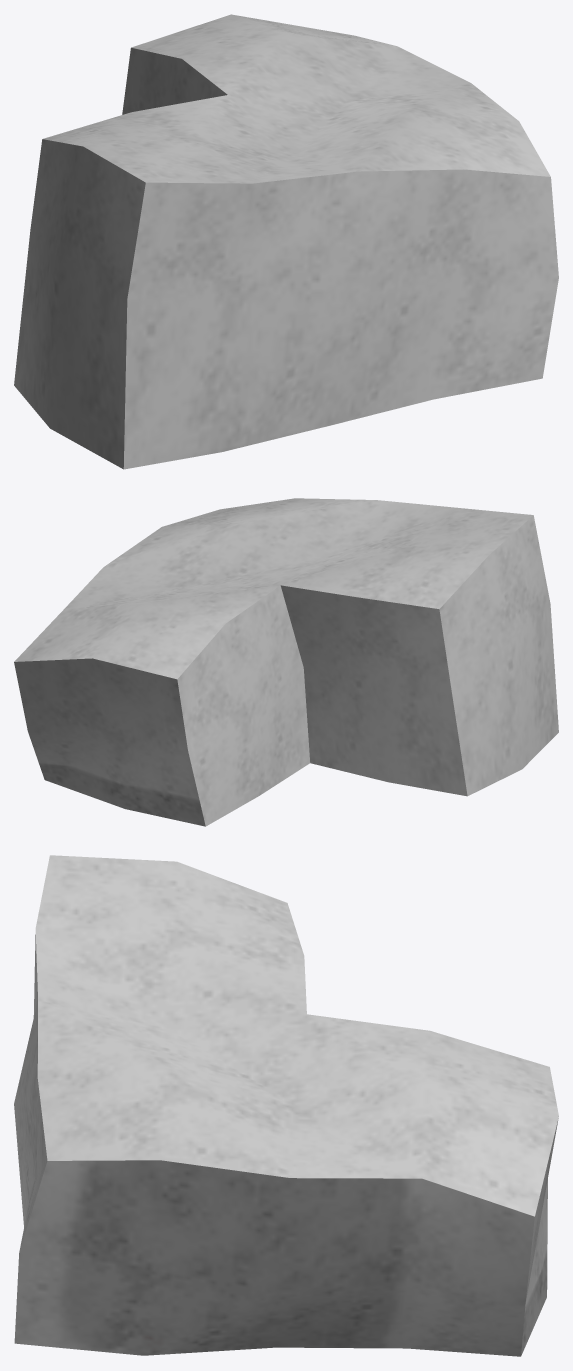
The model's file is ob-bigstone01.fbx.
The picture shows the model from 3 angles, top to bottom: view 1: azimuth 30°, elevation 25°; view 2: azimuth 150°, elevation 25°; view 3: azimuth 270°, elevation 25°; orthographic projection. The views are drawn at different scales.
Visible parts, largest first — view 1: Sphere01; view 2: Sphere01; view 3: Sphere01.
Boxes of the visible parts, box(x1,y1,x2,y2) form: Sphere01: box(14, 14, 558, 469); Sphere01: box(14, 498, 558, 826); Sphere01: box(14, 855, 558, 1356).
Size of the model in its own units: 7.09 by 3.9 by 6.6.
